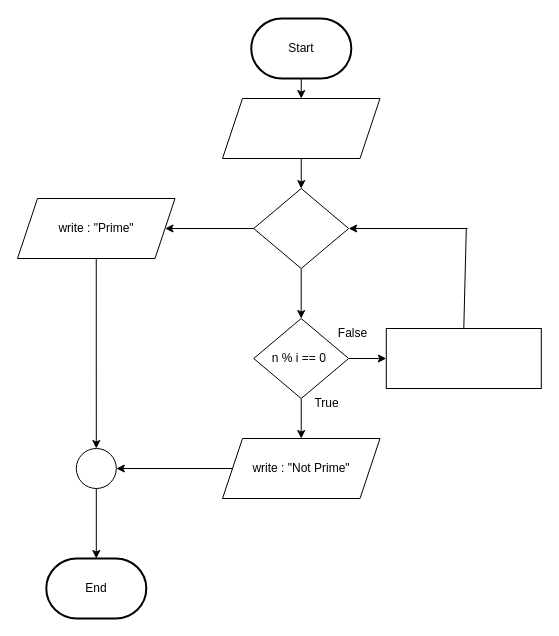
Some shapes in this 559 by 636 pixel diagram are drawn without their labels. The shapes that lost their labels are listed below. From the top down, each one's centre as x and y in pixels, then its label:
At [301,128]: "read : n , i = 2".
At [301,228]: "i < n".
At [463,358]: "i += 1".
